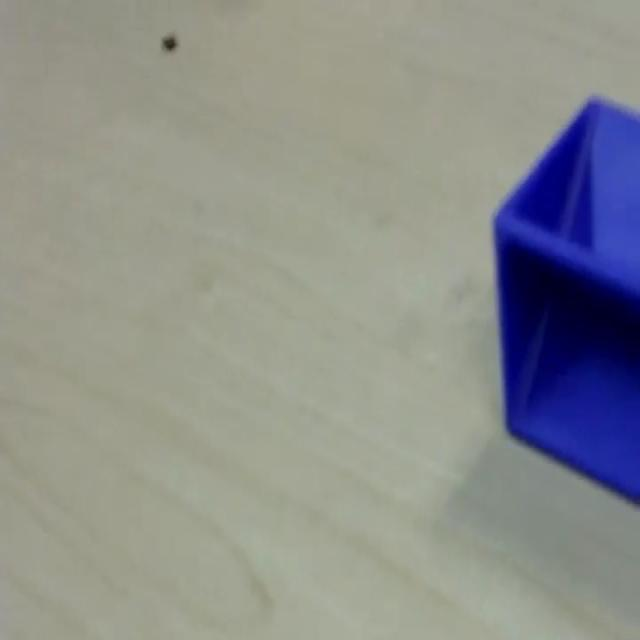blue_block: (491, 91, 638, 504)
